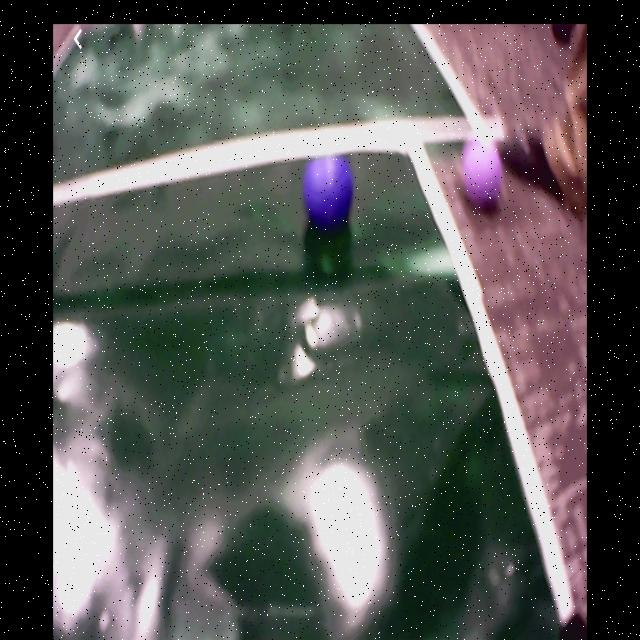ball: (304, 152, 355, 225), (459, 138, 502, 213)
